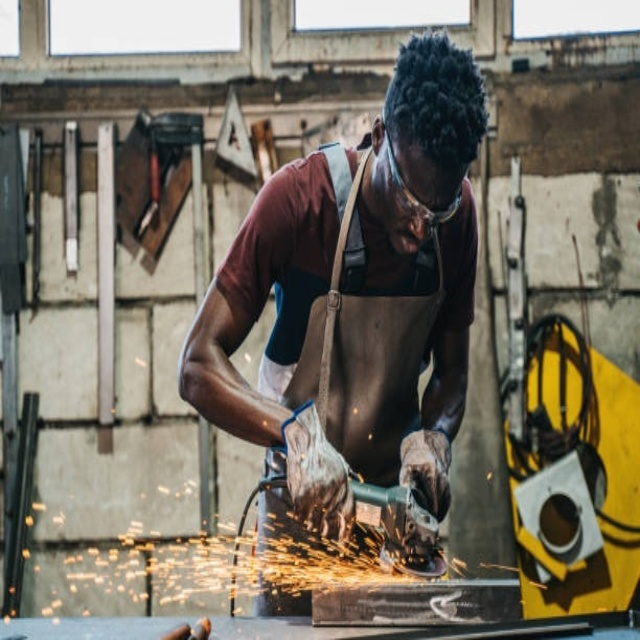Gafas: (386, 129, 465, 228)
Guantes: (281, 398, 352, 543), (397, 424, 454, 529)
Sin_mascara: (391, 226, 425, 257)
